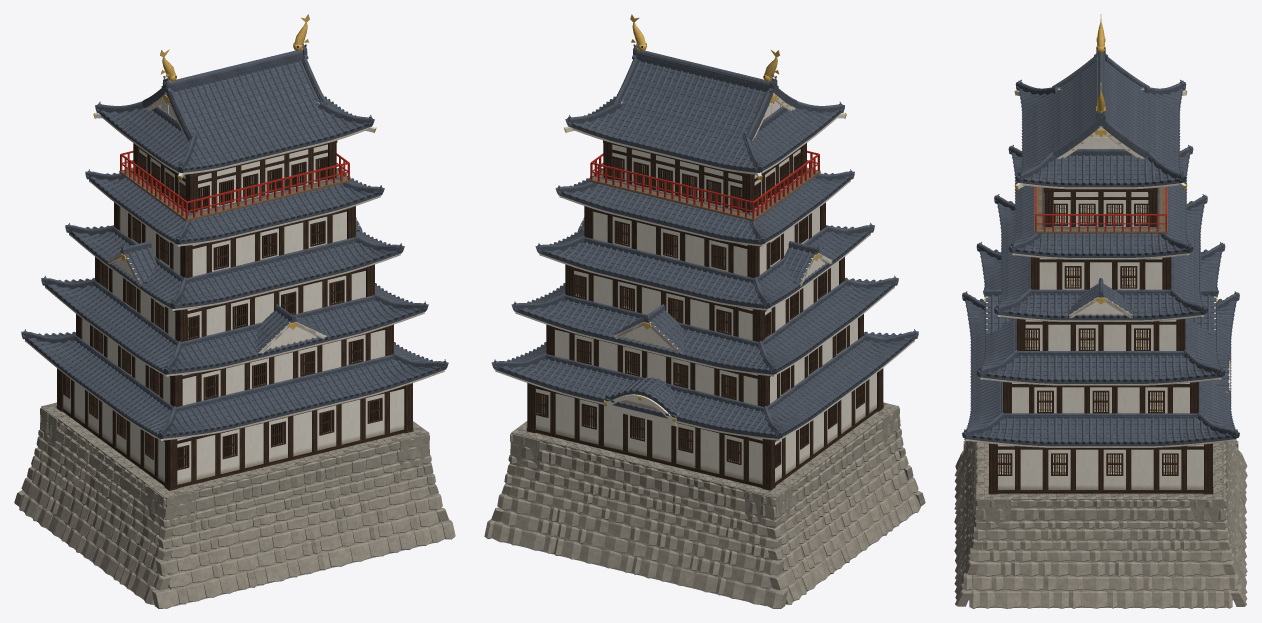
Rendered from HO_Castle_Keep.fbx.
3 renders of one model, left to right at view 1: azimuth 30°, elevation 25°; view 2: azimuth 150°, elevation 25°; view 3: azimuth 270°, elevation 25°, orthographic.
Parts seen in each view (by area): view 1: HO_Castle_Keep_Base_Back, HO_Castle_Keep_Tier5_RoofTiles, HO_Castle_Keep_Base_Left, HO_Castle_Keep_Tier1_RoofTiles, HO_Castle_Keep_Tier2_RoofTiles, HO_Castle_Keep_Tier3_RoofTiles, HO_Castle_Keep_Tier1_Walls__Timber_Dark, HO_Castle_Keep_Tier1_Walls__Plaster_White, HO_Castle_Keep_Tier4_RoofTiles, HO_Castle_Keep_Tier5_Walls__Timber_Dark, HO_Castle_Keep_Tier2_Walls__Timber_Dark, HO_Castle_Keep_Tier3_Walls__Timber_Dark (+18 smaller); view 2: HO_Castle_Keep_Base_Front, HO_Castle_Keep_Tier5_RoofTiles, HO_Castle_Keep_Base_Left, HO_Castle_Keep_Tier1_RoofTiles, HO_Castle_Keep_Tier2_RoofTiles, HO_Castle_Keep_Tier3_RoofTiles, HO_Castle_Keep_Tier1_Walls__Timber_Dark, HO_Castle_Keep_Tier1_Walls__Plaster_White, HO_Castle_Keep_Tier4_RoofTiles, HO_Castle_Keep_Tier5_Walls__Timber_Dark, HO_Castle_Keep_Tier2_Walls__Timber_Dark, HO_Castle_Keep_Tier3_Walls__Timber_Dark (+20 smaller); view 3: HO_Castle_Keep_Base_Right, HO_Castle_Keep_Tier5_RoofTiles, HO_Castle_Keep_Tier1_RoofTiles, HO_Castle_Keep_Tier2_RoofTiles, HO_Castle_Keep_Tier3_RoofTiles, HO_Castle_Keep_Tier4_RoofTiles, HO_Castle_Keep_Tier1_Walls__Plaster_White, HO_Castle_Keep_Tier1_Walls__Timber_Dark, HO_Castle_Keep_Base_Front, HO_Castle_Keep_Base_Back, HO_Castle_Keep_Tier2_Walls__Timber_Dark, HO_Castle_Keep_Base_Top__Stone_Fitted (+22 smaller).
Boxes of the visible parts, x1,y1,x2,y2 form: HO_Castle_Keep_Base_Back: (147,421,455,608); HO_Castle_Keep_Tier5_RoofTiles: (95,43,374,172); HO_Castle_Keep_Base_Left: (19,402,194,604); HO_Castle_Keep_Tier1_RoofTiles: (21,329,448,438); HO_Castle_Keep_Tier2_RoofTiles: (41,275,428,374); HO_Castle_Keep_Tier3_RoofTiles: (65,223,404,308); HO_Castle_Keep_Tier1_Walls__Timber_Dark: (56,368,413,490); HO_Castle_Keep_Tier1_Walls__Plaster_White: (63,379,404,484); HO_Castle_Keep_Tier4_RoofTiles: (85,168,384,244); HO_Castle_Keep_Tier5_Walls__Timber_Dark: (133,140,337,212); HO_Castle_Keep_Tier2_Walls__Timber_Dark: (76,314,393,406); HO_Castle_Keep_Tier3_Walls__Timber_Dark: (95,257,374,341); HO_Castle_Keep_Base_Front: (484,421,792,608); HO_Castle_Keep_Tier5_RoofTiles: (565,43,844,172); HO_Castle_Keep_Base_Left: (745,402,920,604); HO_Castle_Keep_Tier1_RoofTiles: (491,329,918,438); HO_Castle_Keep_Tier2_RoofTiles: (511,275,898,374); HO_Castle_Keep_Tier3_RoofTiles: (535,222,874,308); HO_Castle_Keep_Tier1_Walls__Timber_Dark: (526,368,883,490); HO_Castle_Keep_Tier1_Walls__Plaster_White: (536,373,876,484); HO_Castle_Keep_Tier4_RoofTiles: (555,168,854,244); HO_Castle_Keep_Tier5_Walls__Timber_Dark: (603,140,806,212); HO_Castle_Keep_Tier2_Walls__Timber_Dark: (546,314,863,406); HO_Castle_Keep_Tier3_Walls__Timber_Dark: (565,257,844,341); HO_Castle_Keep_Base_Right: (963,485,1238,608); HO_Castle_Keep_Tier5_RoofTiles: (1015,44,1186,187); HO_Castle_Keep_Tier1_RoofTiles: (962,291,1239,446); HO_Castle_Keep_Tier2_RoofTiles: (976,242,1225,383); HO_Castle_Keep_Tier3_RoofTiles: (994,194,1207,320); HO_Castle_Keep_Tier4_RoofTiles: (1008,145,1193,257); HO_Castle_Keep_Tier1_Walls__Plaster_White: (998,444,1203,489); HO_Castle_Keep_Tier1_Walls__Timber_Dark: (988,443,1213,494); HO_Castle_Keep_Base_Front: (1191,440,1247,606); HO_Castle_Keep_Base_Back: (954,438,1010,606); HO_Castle_Keep_Tier2_Walls__Timber_Dark: (1003,382,1198,413); HO_Castle_Keep_Base_Top__Stone_Fitted: (977,442,1224,500).
Bounding box in the file's own units: 50.34 × 77.42 × 42.34.
